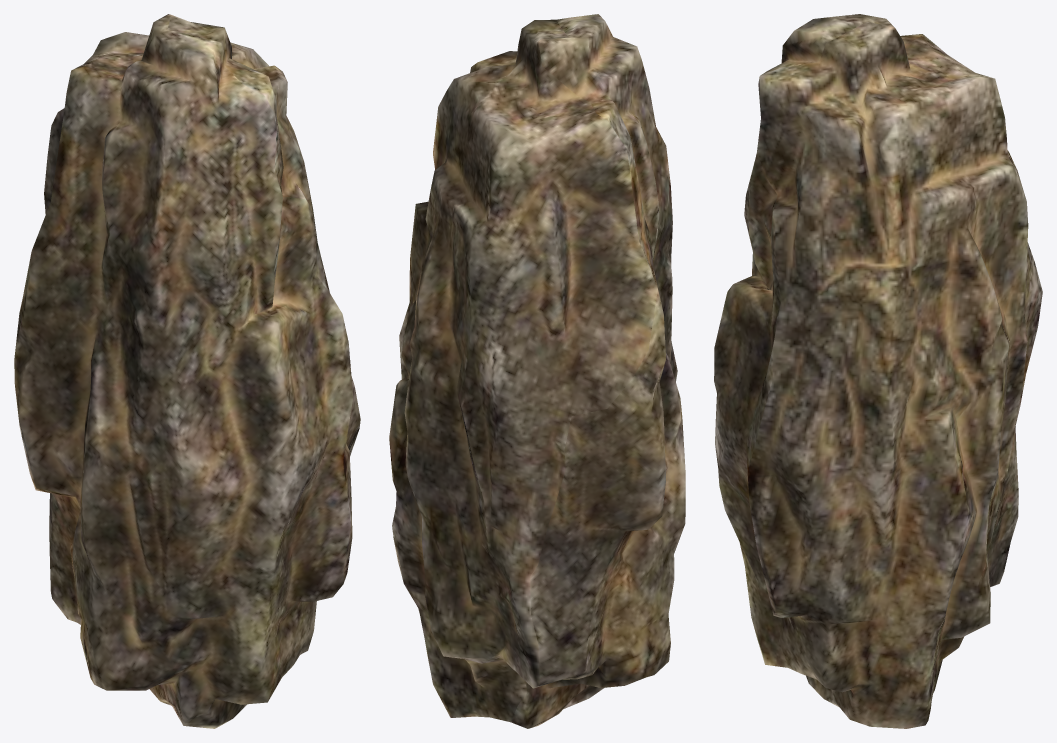
The model's file is Rock - Dark 4-C7EPBoKH.glb.
3 renders of one model, left to right at view 1: azimuth 30°, elevation 25°; view 2: azimuth 150°, elevation 25°; view 3: azimuth 270°, elevation 25°, orthographic. The views are drawn at different scales.
Visible parts, largest first — view 1: DarkRock_4; view 2: DarkRock_4; view 3: DarkRock_4.
Boxes of the visible parts, box(x1,y1,x2,y2) form: DarkRock_4: box(14, 14, 360, 728); DarkRock_4: box(389, 14, 685, 728); DarkRock_4: box(714, 14, 1042, 728).
Bounding box in the file's own units: 3.6 × 8.39 × 3.76.
Materials: 1 (1 with a texture image).
